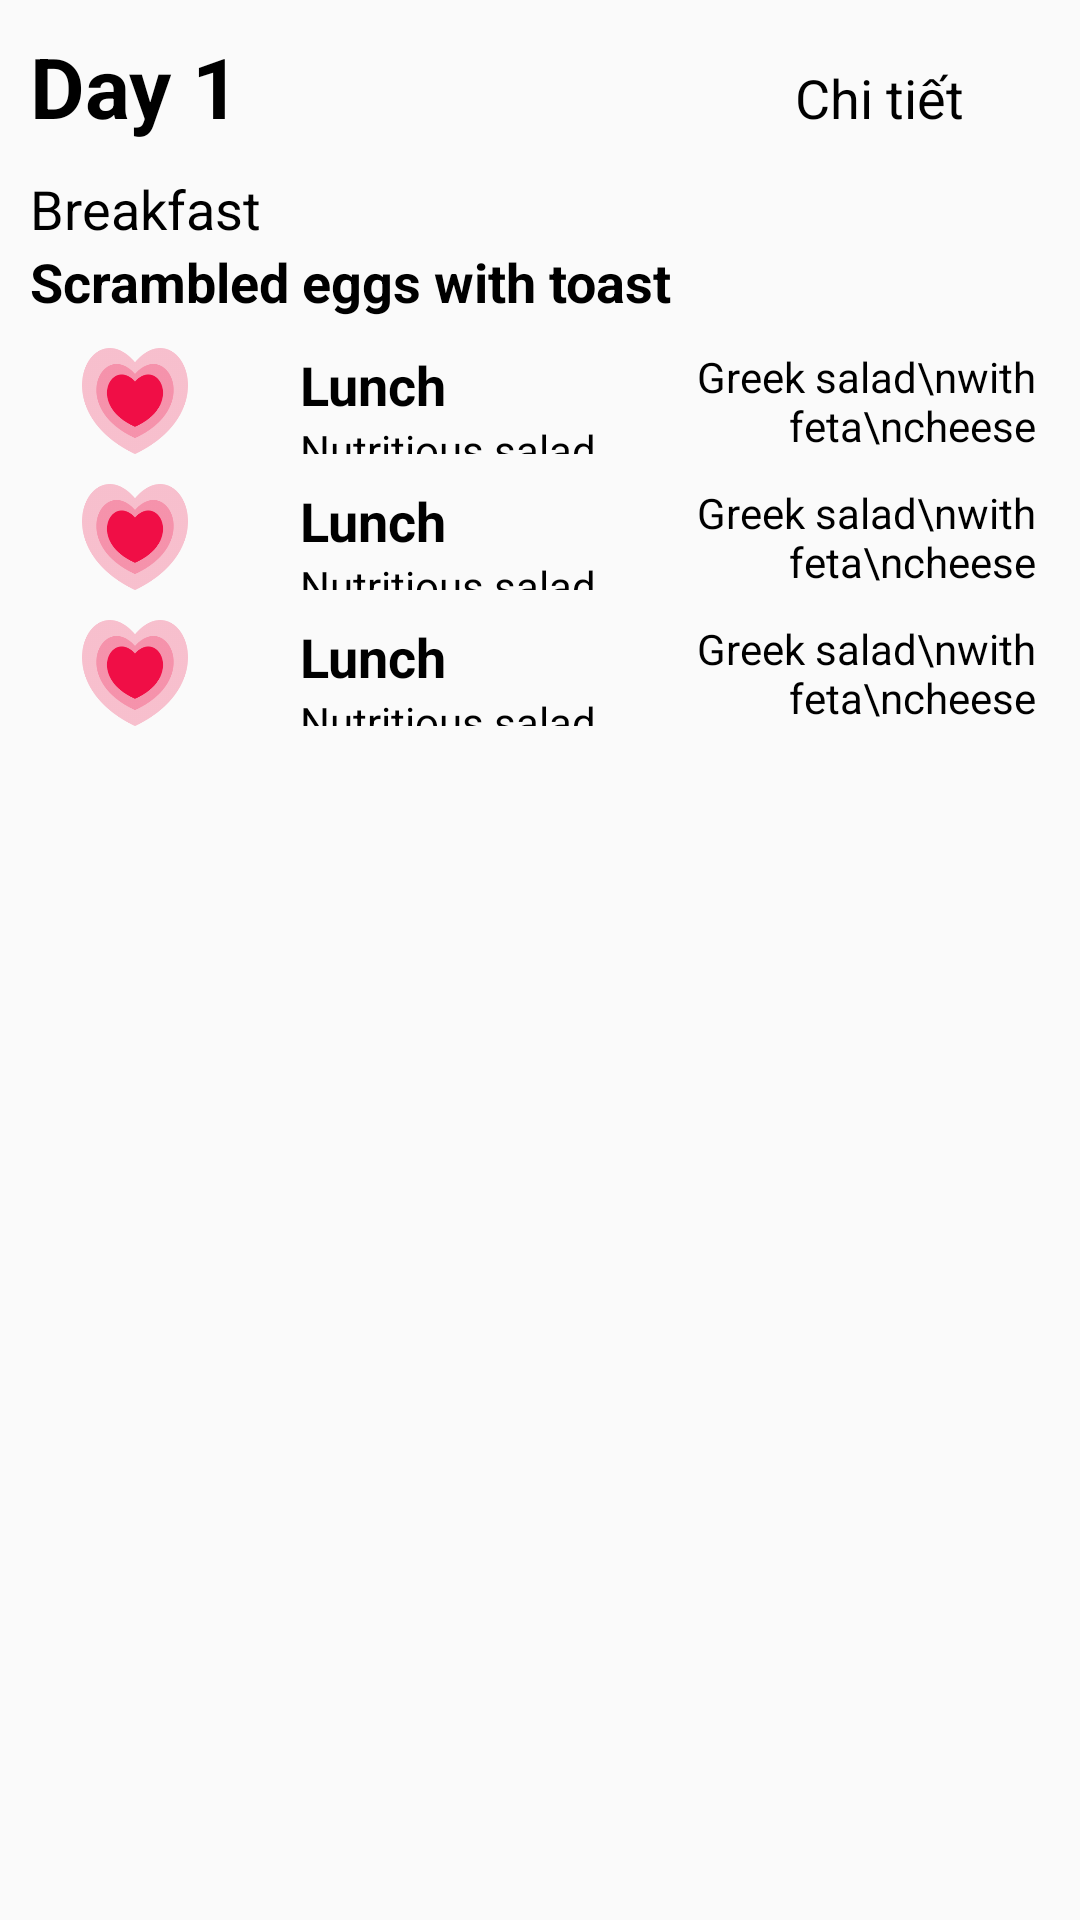

Screen size 1080 × 1920. Icon name, then its center in pixels as (x=x, y=y):
heart: (x=135, y=401), (x=135, y=537), (x=135, y=673)
